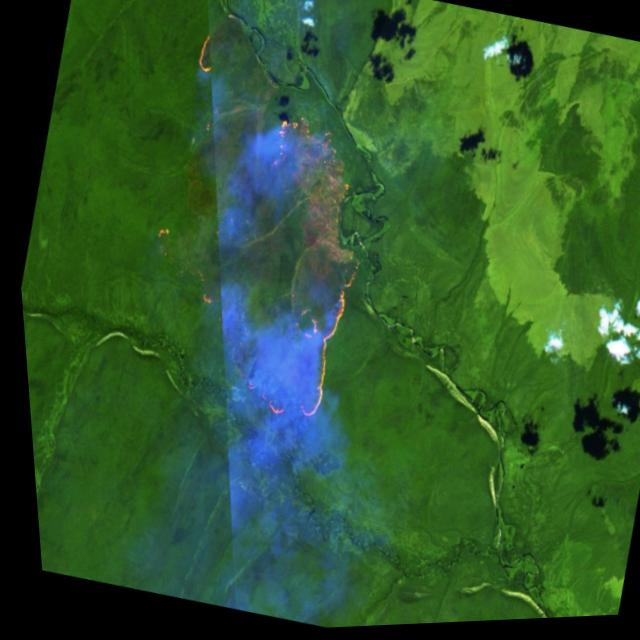fire: (94, 0, 422, 446)
